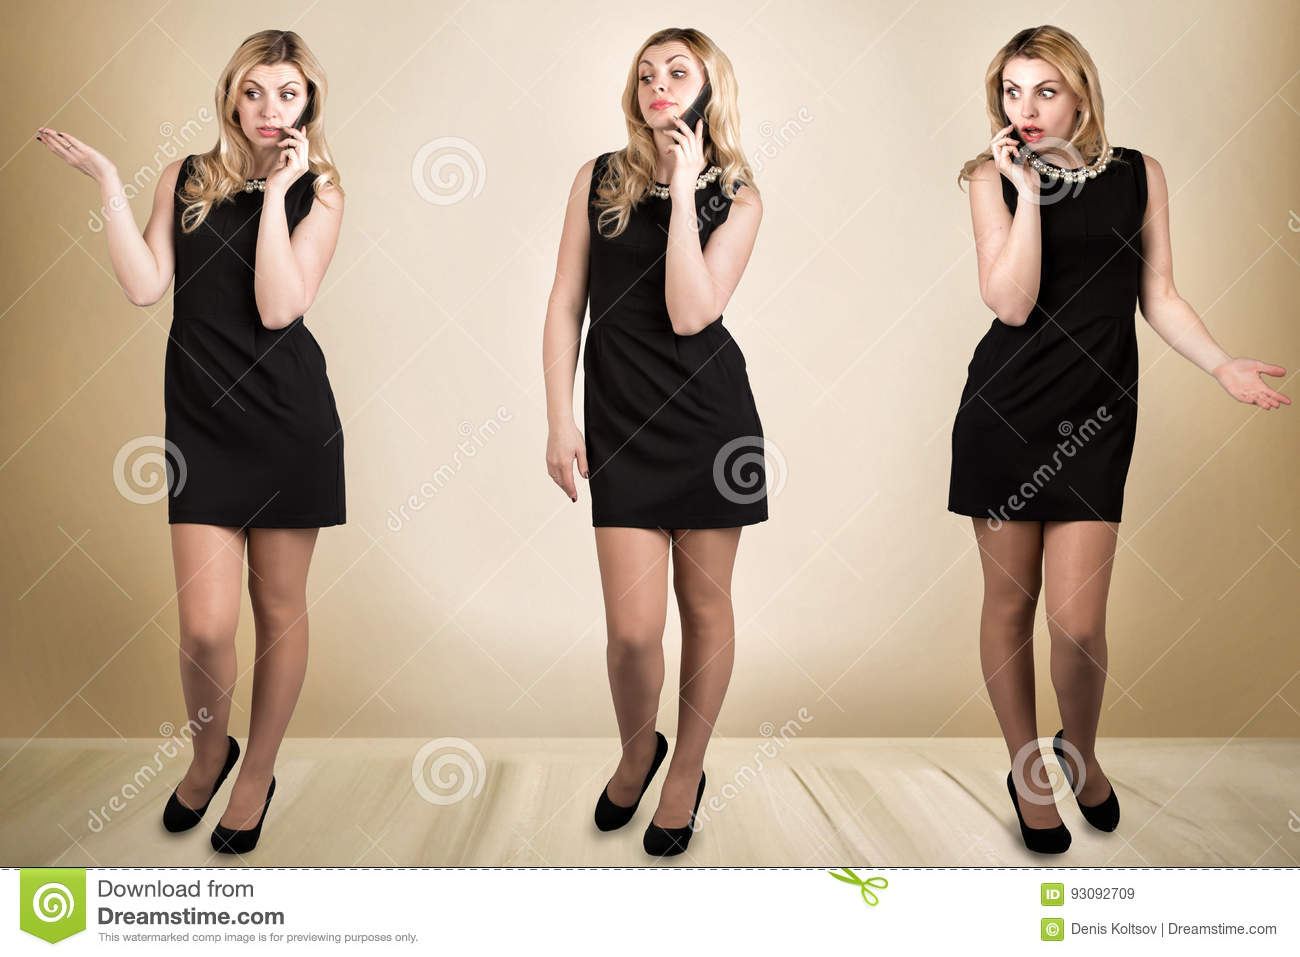phone: (672, 82, 713, 153), (999, 107, 1026, 168), (287, 89, 312, 146)
talk: (635, 47, 714, 203), (992, 72, 1071, 200), (242, 75, 315, 193)
